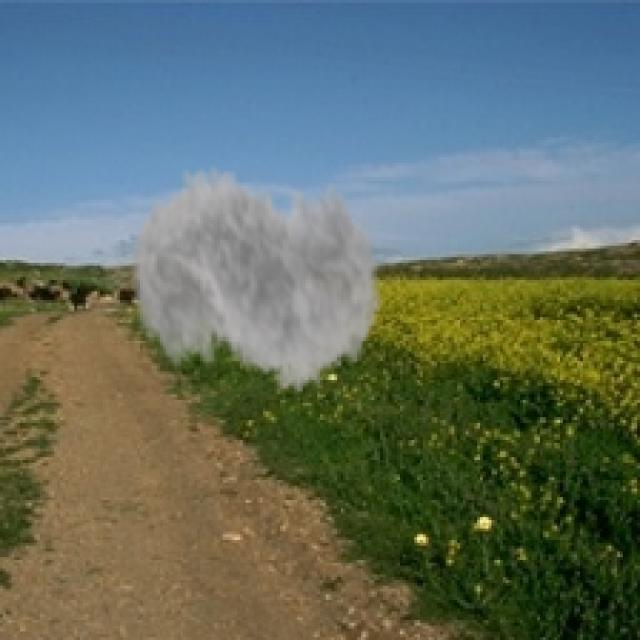Smoke: (128, 137, 383, 414)
